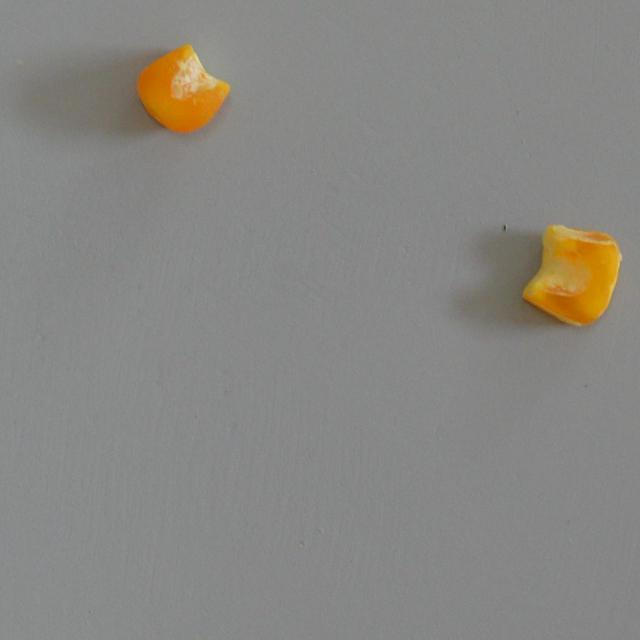dañado: (519, 210, 624, 338)
no_desgerminado: (131, 38, 234, 138)
